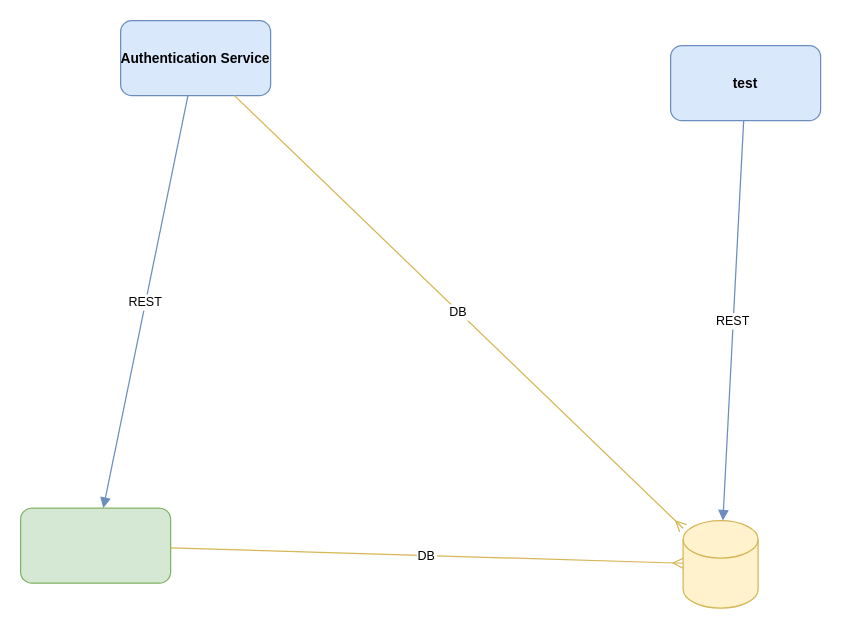
The diagram is 841 pixels wide and 629 high, and some of its shapes have lost their labels. Each missing label, with the centre of its shape:
Advisor Dashboard: (x=95, y=545)
Cashflow Event Store: (x=720, y=563)
